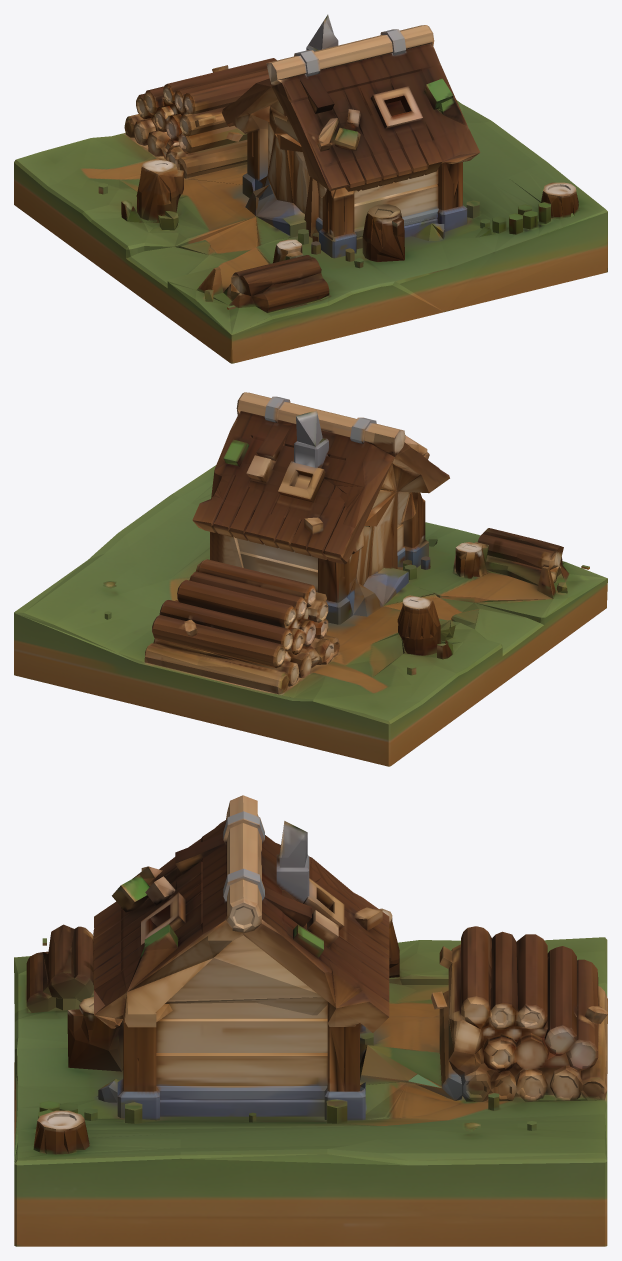
Rendered from lumber_camp.fbx.
3 renders of one model, top to bottom at view 1: azimuth 30°, elevation 25°; view 2: azimuth 150°, elevation 25°; view 3: azimuth 270°, elevation 25°, orthographic. The views are drawn at different scales.
Visible parts, largest first — view 1: texture_pbr_v128; view 2: texture_pbr_v128; view 3: texture_pbr_v128.
Part boxes in pixels (x1,y1,x2,y2): texture_pbr_v128: [14, 14, 607, 363]; texture_pbr_v128: [14, 392, 607, 766]; texture_pbr_v128: [14, 795, 607, 1246].
Bounding box in the file's own units: 189 × 107 × 190.
1 material, 1 textured.
